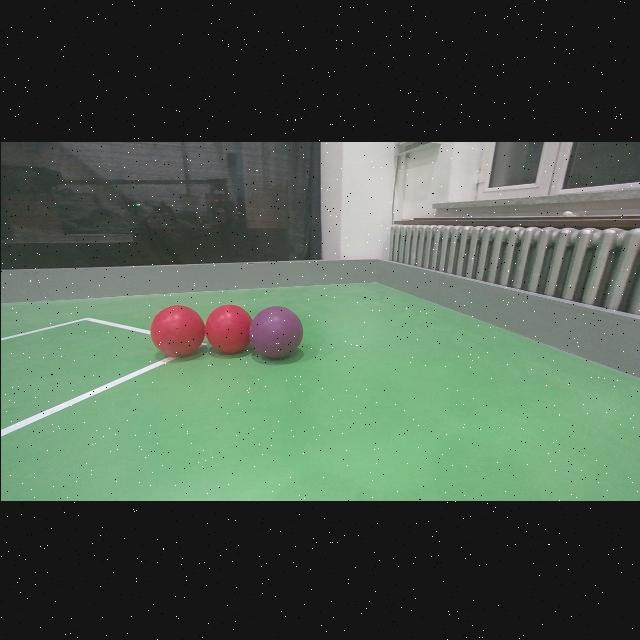P: (250, 304, 302, 358)
R: (150, 304, 204, 354), (204, 304, 252, 352)
